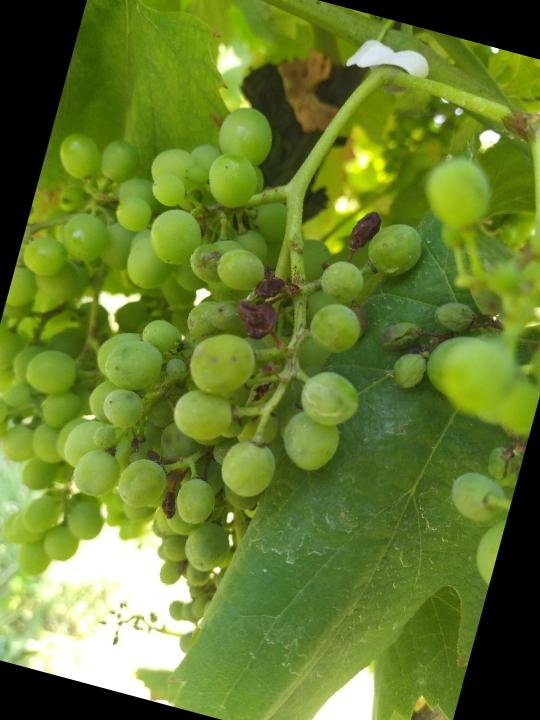grape: (46, 82, 449, 610)
